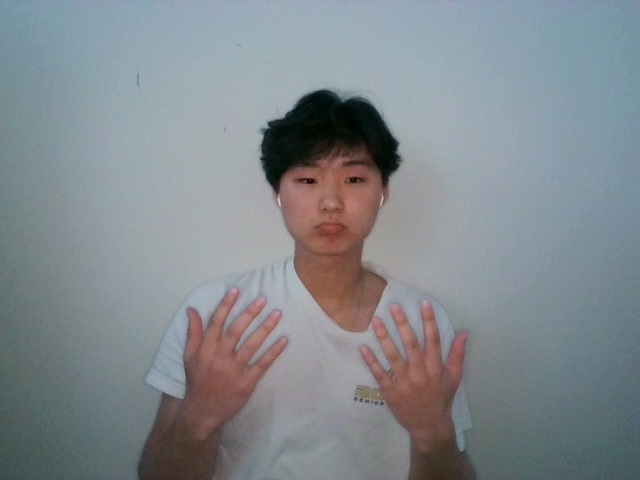sad: (173, 275, 483, 441)
